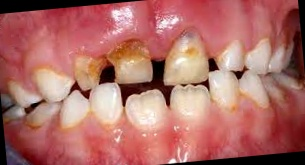Caries: (80, 37, 155, 86), (172, 16, 210, 70)
